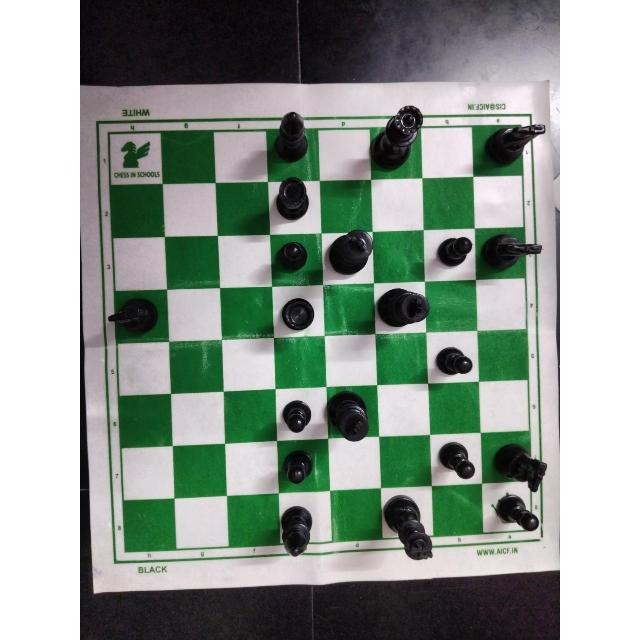black-bishop: (275, 501, 321, 565), (271, 108, 317, 169)
black-king: (378, 485, 441, 566), (324, 384, 378, 445), (324, 226, 375, 282), (375, 284, 432, 333)
black-knight: (479, 116, 547, 171), (476, 227, 544, 277), (488, 439, 548, 495), (103, 295, 162, 339)
black-pawn: (491, 489, 540, 537), (434, 439, 480, 487), (427, 335, 473, 381), (429, 232, 475, 274), (276, 395, 318, 438), (275, 237, 315, 277), (279, 448, 318, 489)
black-queen: (369, 98, 427, 176)
black-rook: (272, 174, 316, 226), (278, 289, 315, 335)
